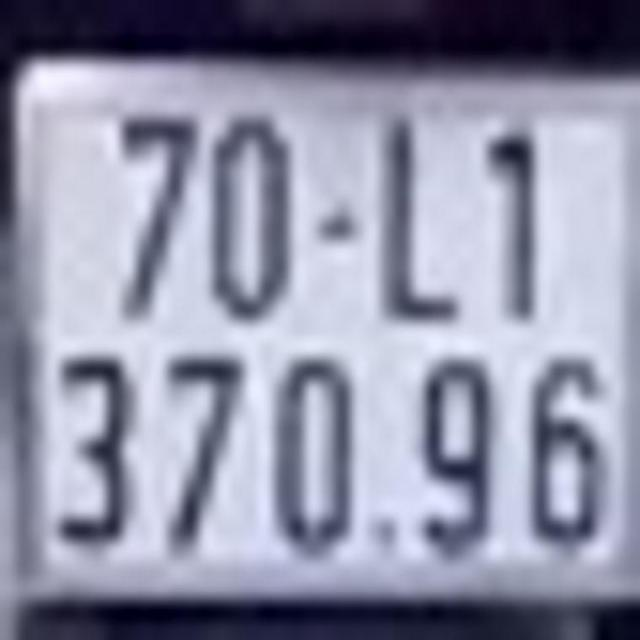0: (277, 338, 366, 559), (206, 100, 295, 319)
1: (480, 127, 551, 323)
3: (51, 346, 135, 554)
6: (519, 344, 612, 546)
7: (110, 109, 197, 322), (160, 347, 242, 560)
9: (417, 360, 491, 555)
L: (374, 104, 469, 335)
